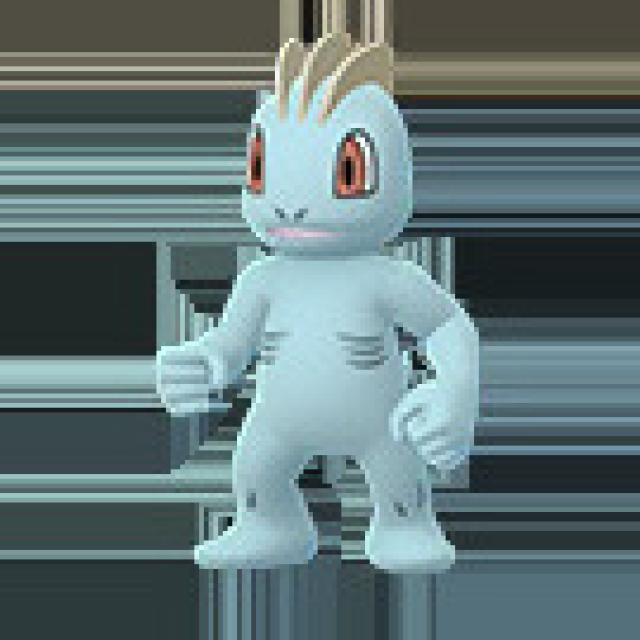Machop: (145, 22, 538, 600)
